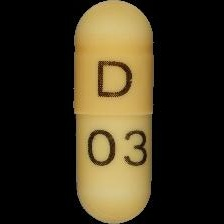52125-862: (0, 0, 224, 224)
